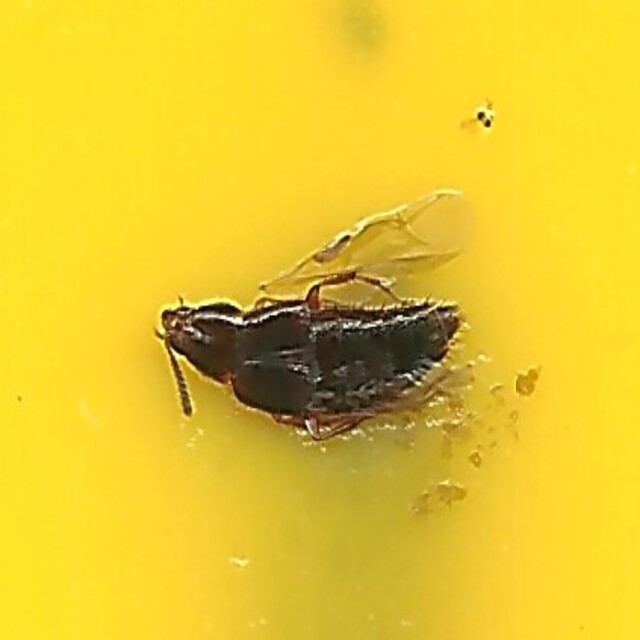Coleoptera: (151, 190, 489, 450)
